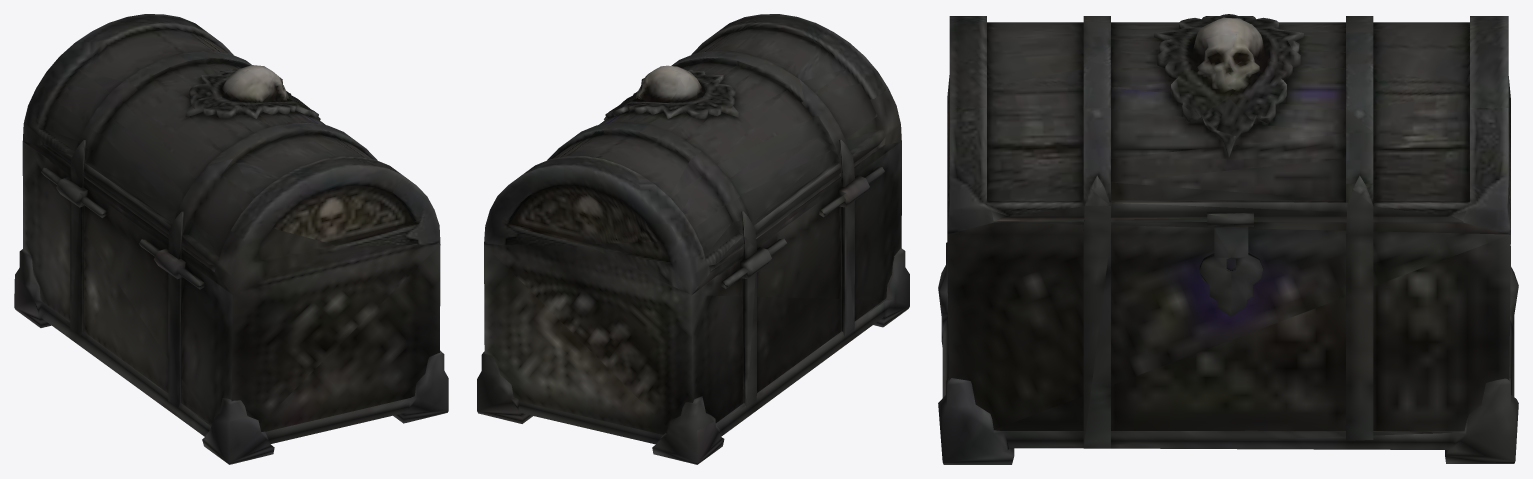
Rendered from reliquary.glb.
The picture shows the model from 3 angles, left to right: view 1: azimuth 30°, elevation 25°; view 2: azimuth 150°, elevation 25°; view 3: azimuth 270°, elevation 25°; orthographic projection. The views are drawn at different scales.
Parts seen in each view (by area): view 1: tripo_node_4fdac07e-64e3-46a6-bda5-03134eb0f009; view 2: tripo_node_4fdac07e-64e3-46a6-bda5-03134eb0f009; view 3: tripo_node_4fdac07e-64e3-46a6-bda5-03134eb0f009.
Part boxes in pixels (x1=…): tripo_node_4fdac07e-64e3-46a6-bda5-03134eb0f009: x1=14, y1=14, x2=448, y2=464; tripo_node_4fdac07e-64e3-46a6-bda5-03134eb0f009: x1=477, y1=14, x2=909, y2=464; tripo_node_4fdac07e-64e3-46a6-bda5-03134eb0f009: x1=938, y1=14, x2=1518, y2=464.
Bounding box in the file's own units: 0.6152 × 0.7324 × 0.998.
Materials: 1 (1 with a texture image).
